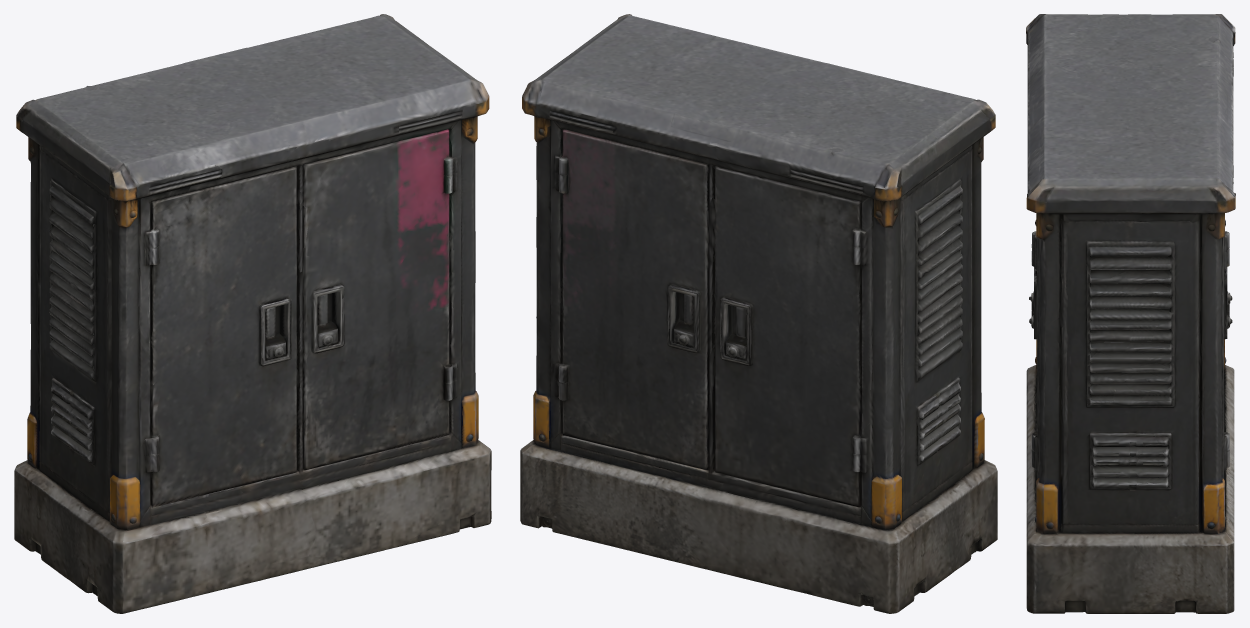
File: kairox-utility-cabinet.glb
The picture shows the model from 3 angles, left to right: view 1: azimuth 30°, elevation 25°; view 2: azimuth 150°, elevation 25°; view 3: azimuth 270°, elevation 25°; orthographic projection. The views are drawn at different scales.
Visible parts, largest first — view 1: kairox-utility-cabinet; view 2: kairox-utility-cabinet; view 3: kairox-utility-cabinet.
Part boxes in pixels (x1=…): kairox-utility-cabinet: x1=14, y1=14, x2=491, y2=613; kairox-utility-cabinet: x1=520, y1=14, x2=997, y2=613; kairox-utility-cabinet: x1=1026, y1=14, x2=1235, y2=613.
Size of the model in its own units: 1.43 by 1.6 by 0.7074.
1 material, 1 textured.
